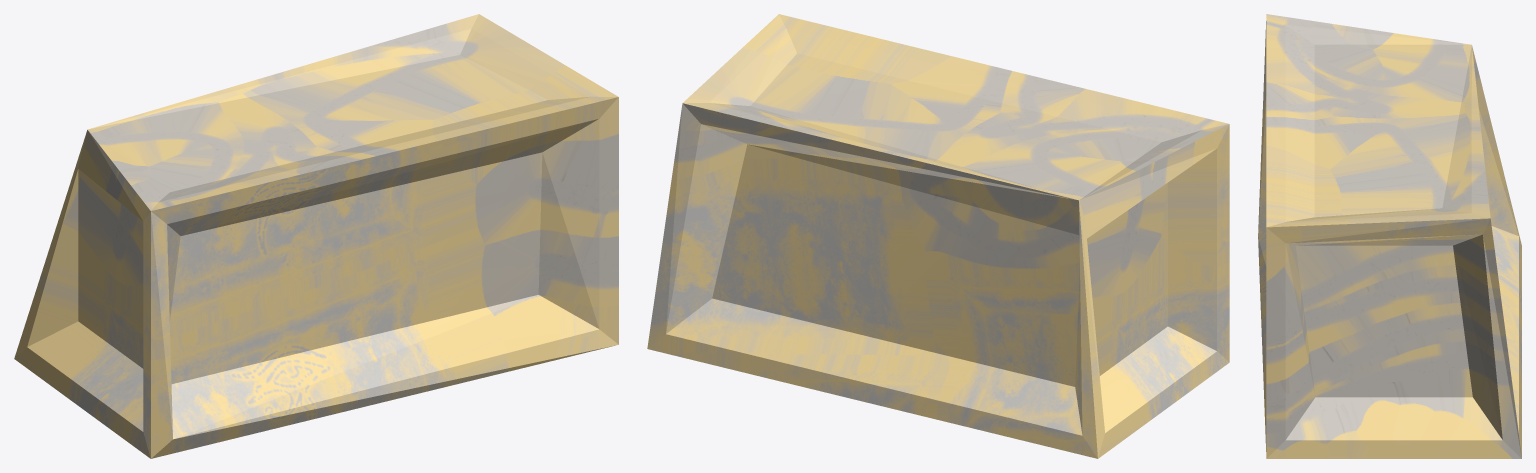
The model's file is GoldBrickDamage1.fbx.
The picture shows the model from 3 angles, left to right: view 1: azimuth 30°, elevation 25°; view 2: azimuth 150°, elevation 25°; view 3: azimuth 270°, elevation 25°; orthographic projection. The views are drawn at different scales.
Parts seen in each view (by area): view 1: Box001; view 2: Box001; view 3: Box001.
Part boxes in pixels (box(x1,y1,x2,y2)): Box001: box(14, 14, 618, 458); Box001: box(647, 14, 1229, 458); Box001: box(1258, 14, 1521, 458).
Bounding box in the file's own units: 202 × 106 × 102.
